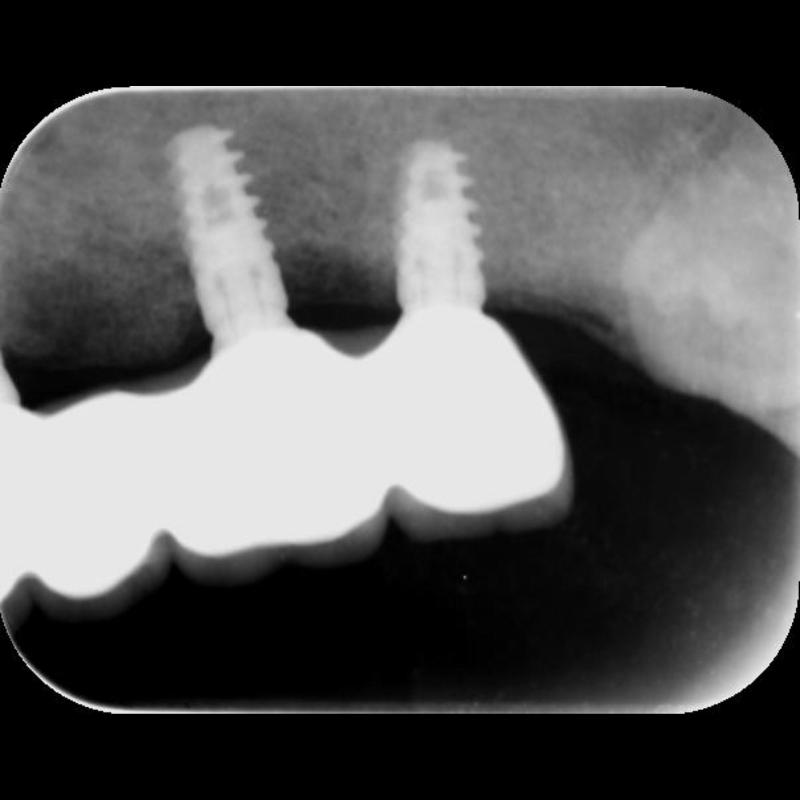ADIN: (159, 112, 307, 322), (356, 138, 496, 310)
